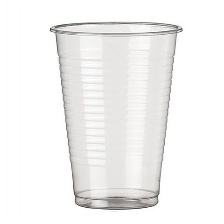glass: (43, 10, 191, 216)
